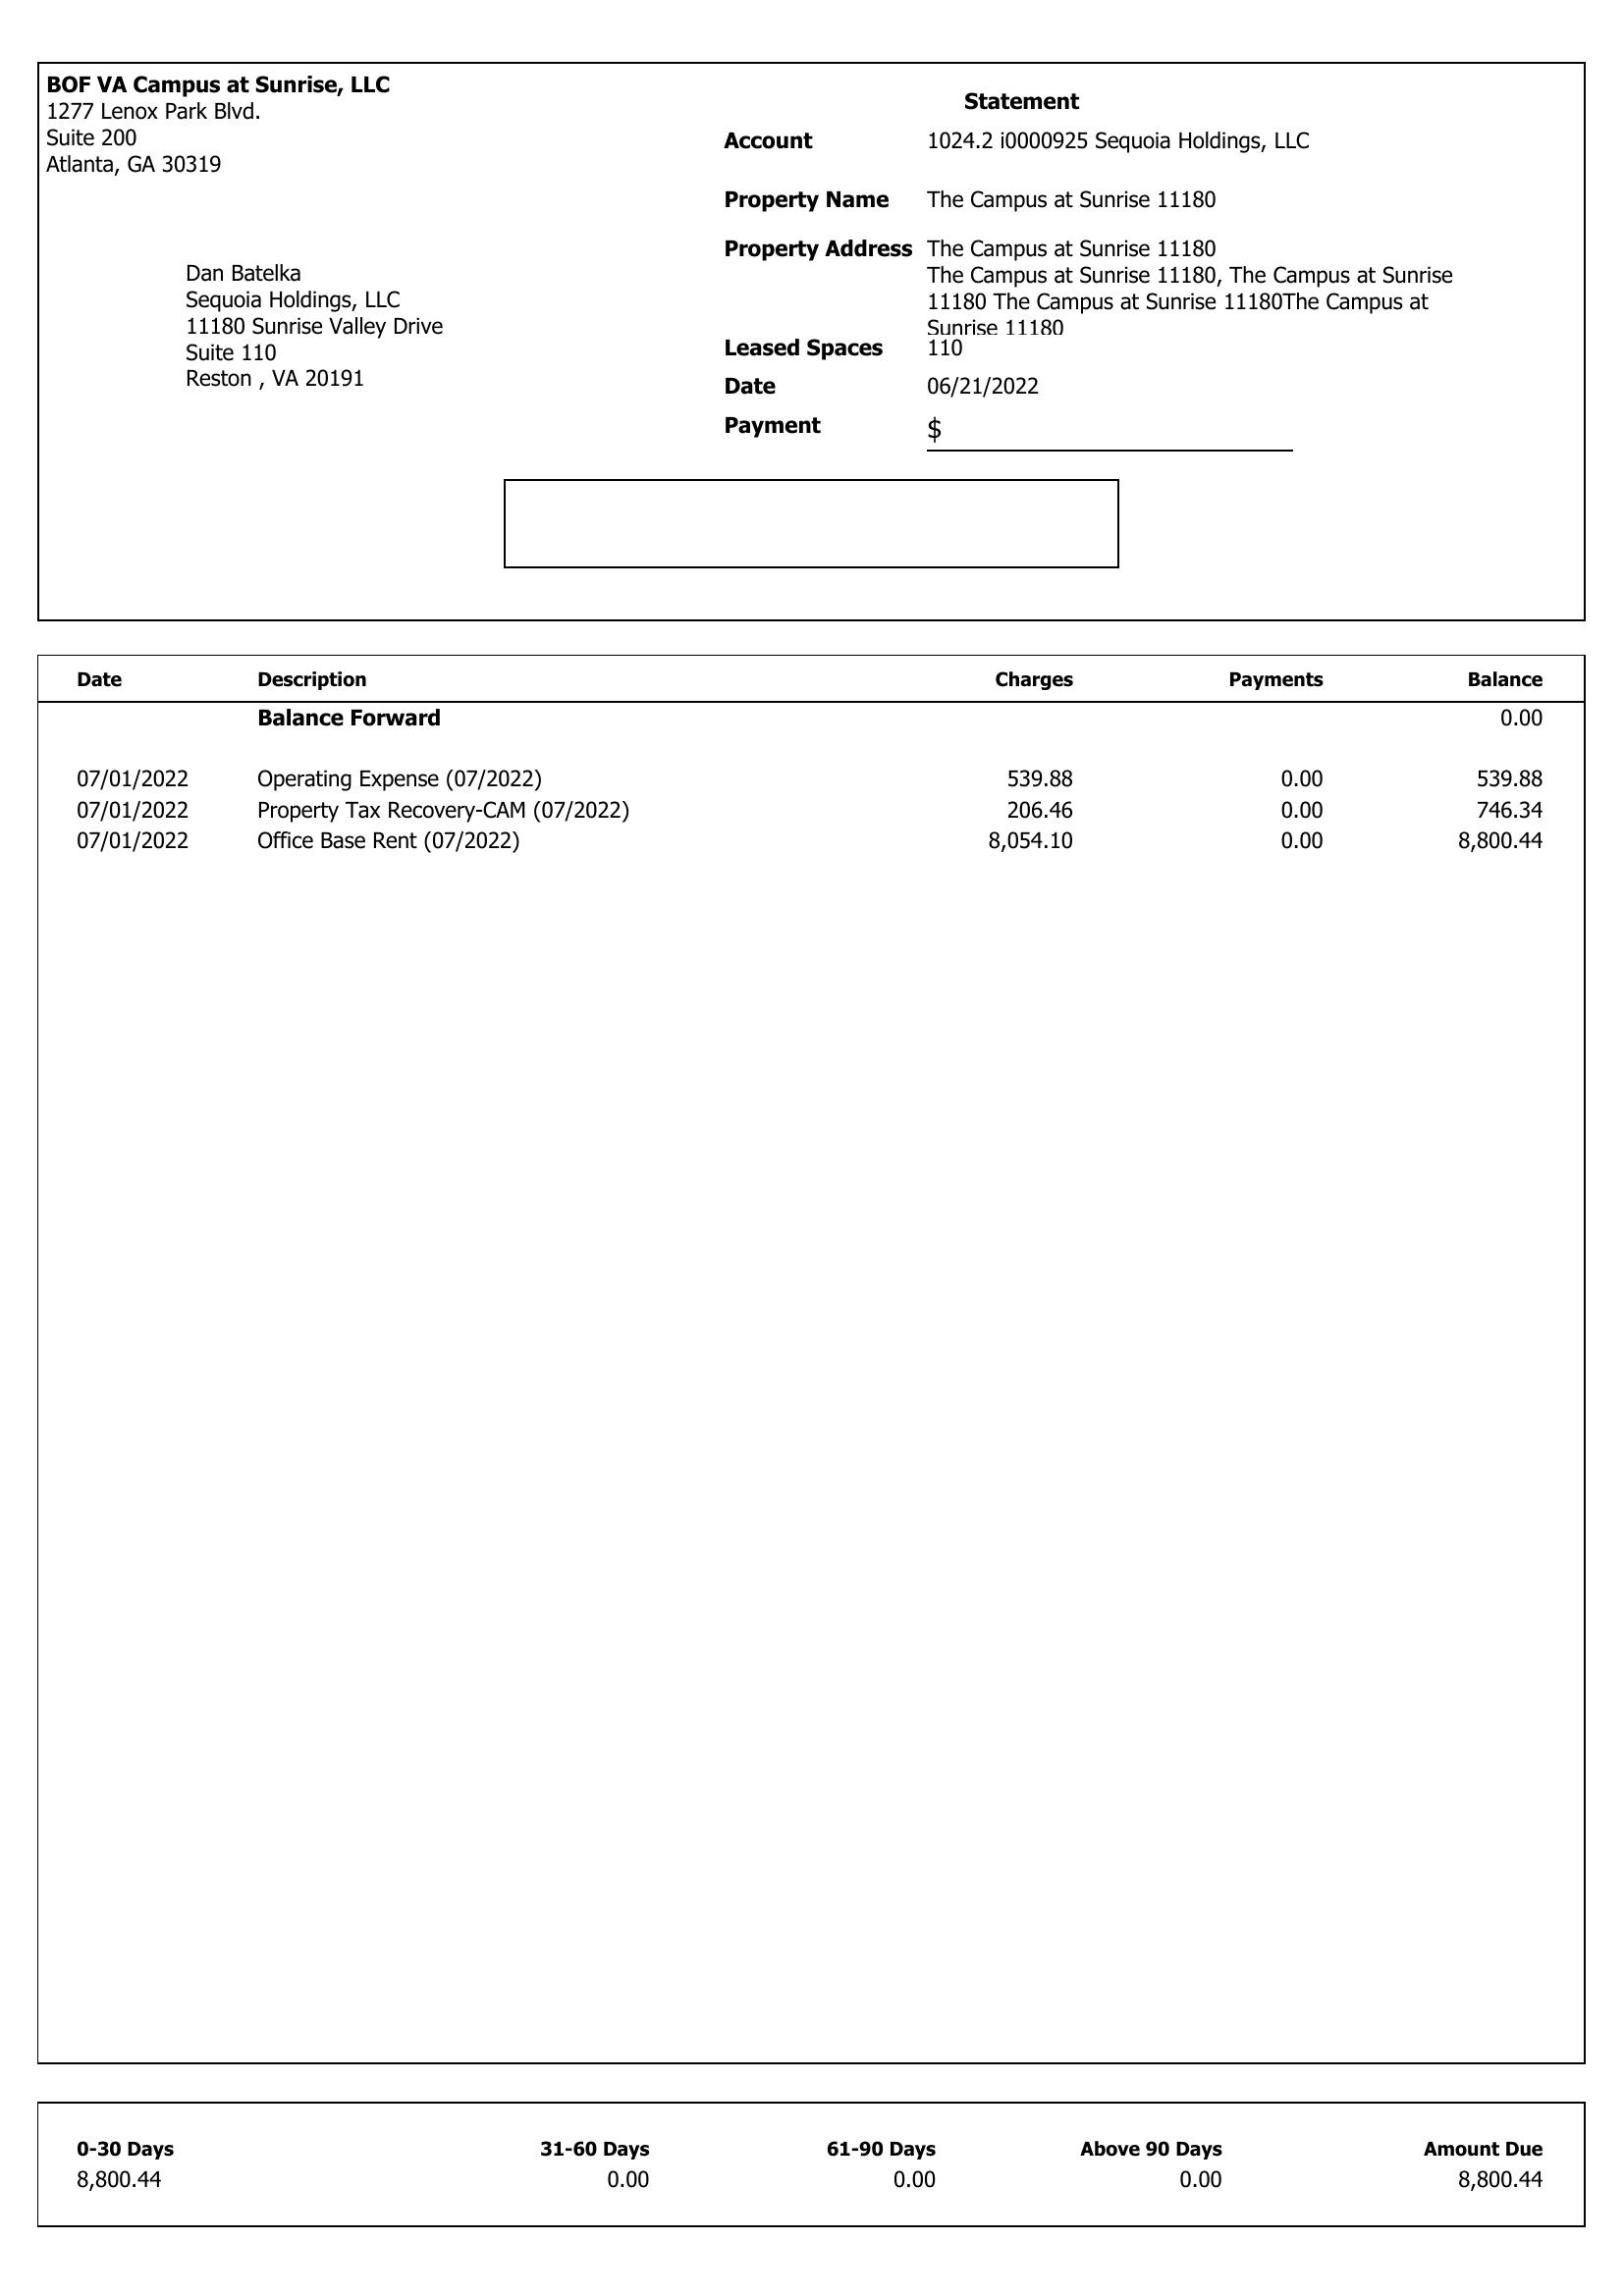table: (39, 650, 1591, 2064), (32, 2101, 1601, 2242)
